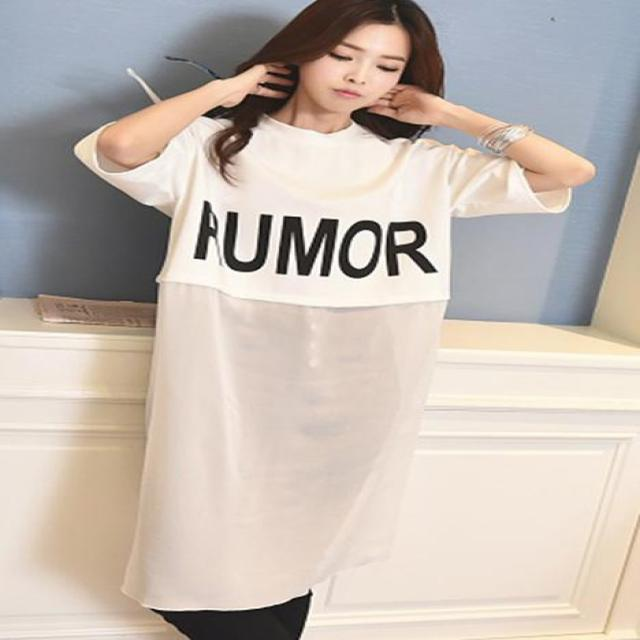short-sleeve-top: (86, 84, 588, 368)
